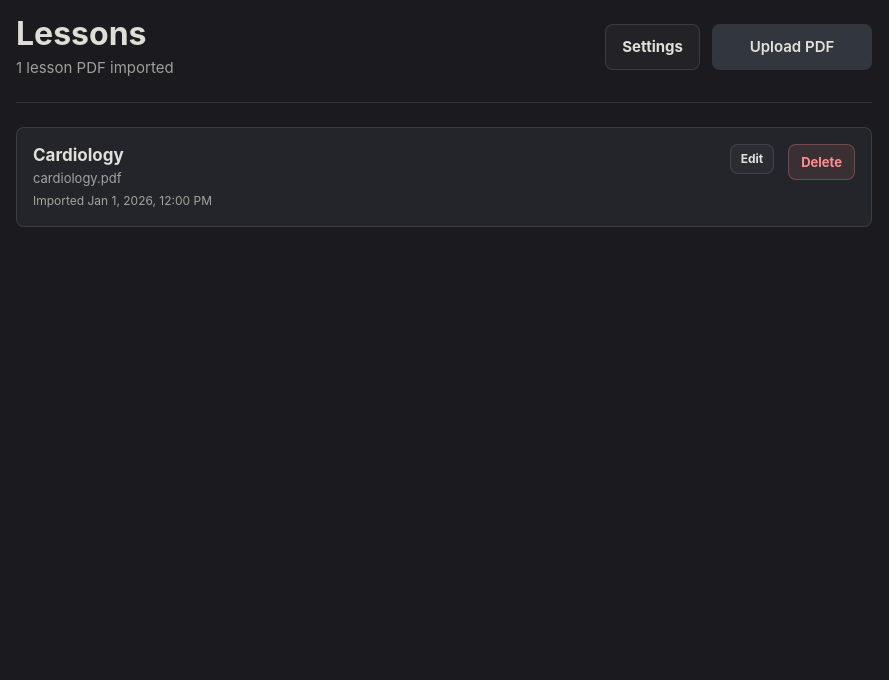
App quiz taking flows › shows tutor feedback and saves the attempt from tutor mode
This screenshot has width=889, height=680.
Step 1. Click the text "Cardiology" → (78, 155), box [33,145,124,165]
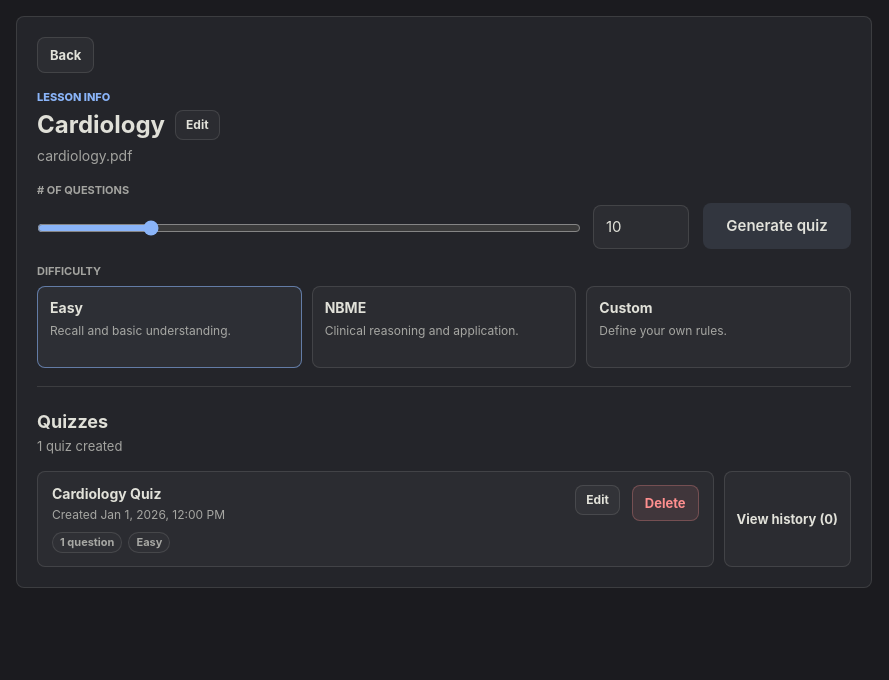
Step 2. Click the text "Cardiology Quiz" → (107, 494), box [52,485,161,502]
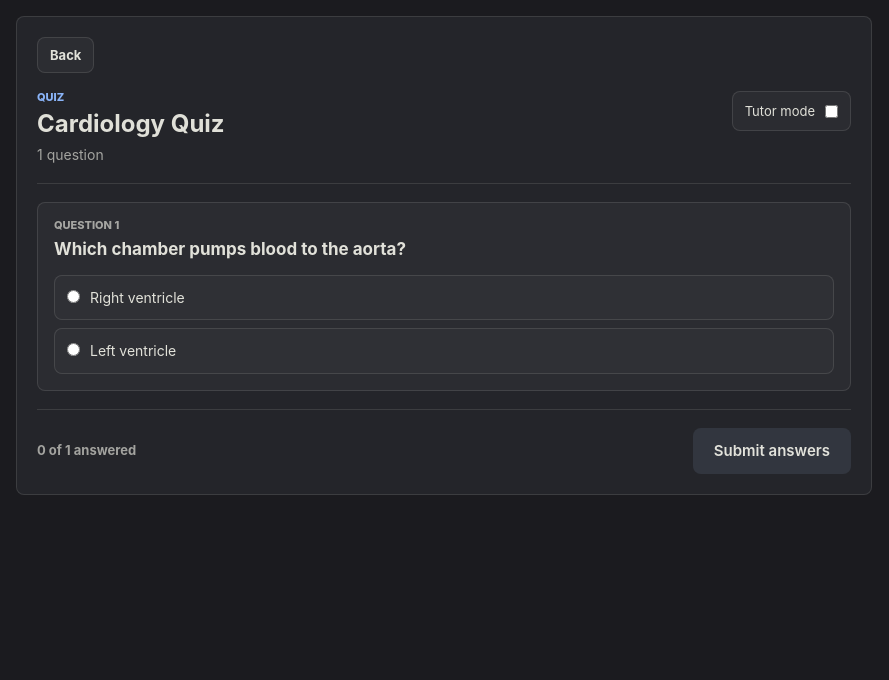
Now the heading "Which chamber pumps blood to the aorta?" is shown, box [54,239,406,259]
Step 3. Click the checkbox labelled "Tutor mode" → (832, 111), box [825,104,838,118]
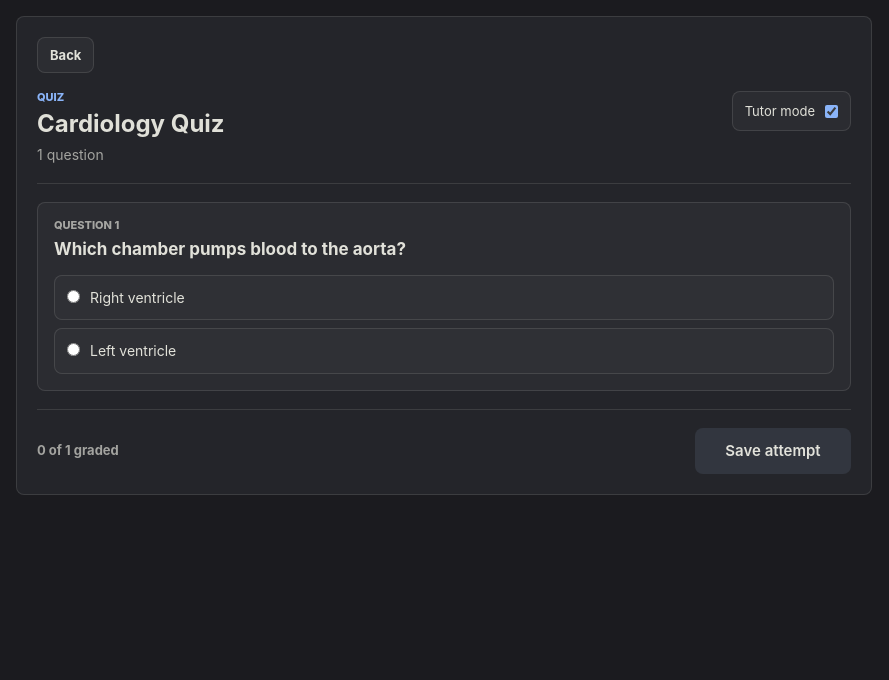
Step 4. Click the radio button labelled "Right ventricle" → (74, 296), box [67,290,80,303]
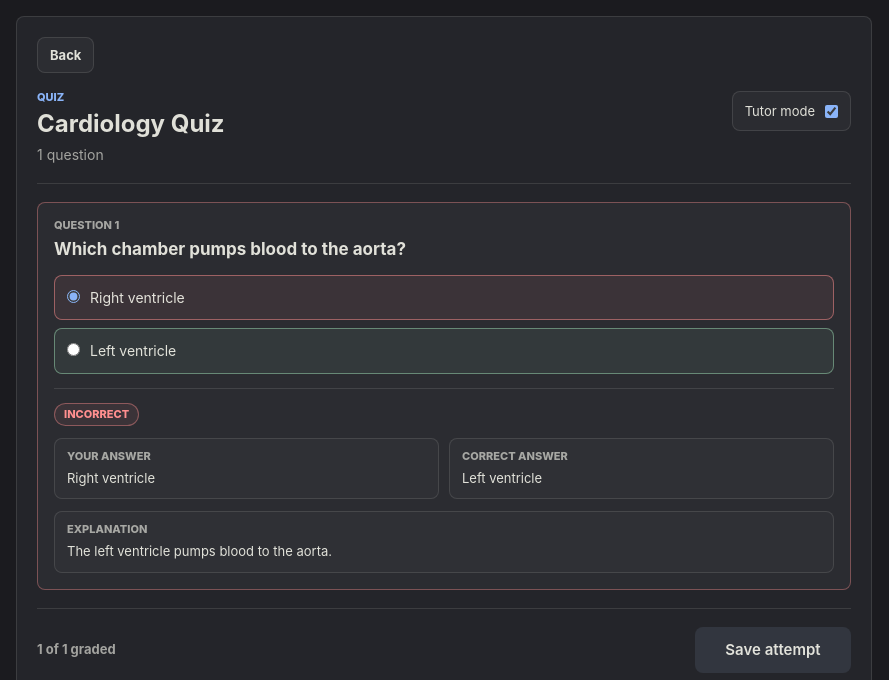
Now the 1st text "Left ventricle" is shown, box [90,341,176,361]
Now the text "Incorrect" is shown, box [54,403,139,426]
Now the text "Correct answer" is shown, box [462,449,568,463]
Step 5. Click the button "Save attempt" → (773, 650), box [695,627,851,673]
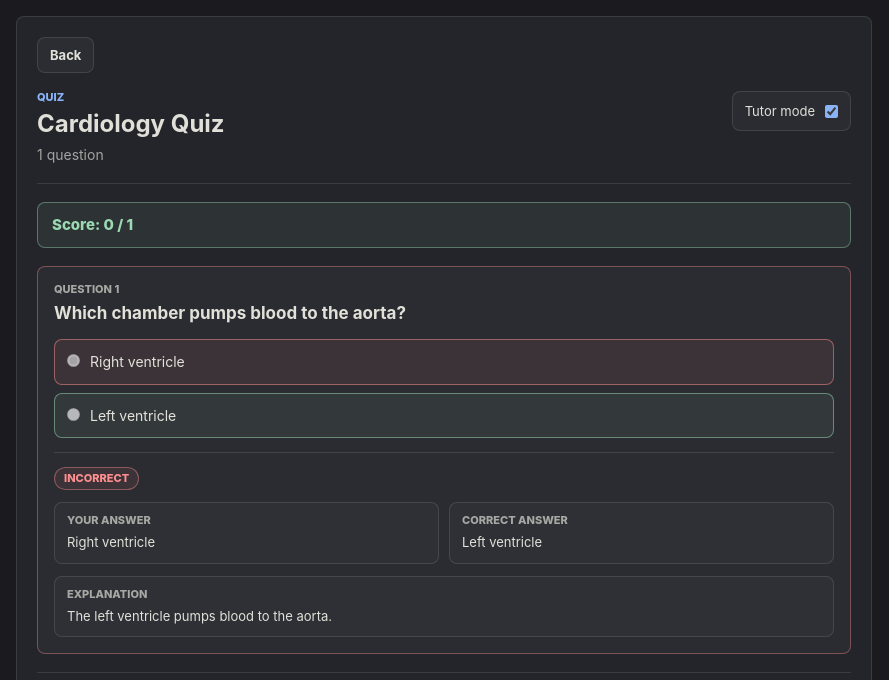
Now the text "Score: 0 / 1" is shown, box [37,202,851,248]
